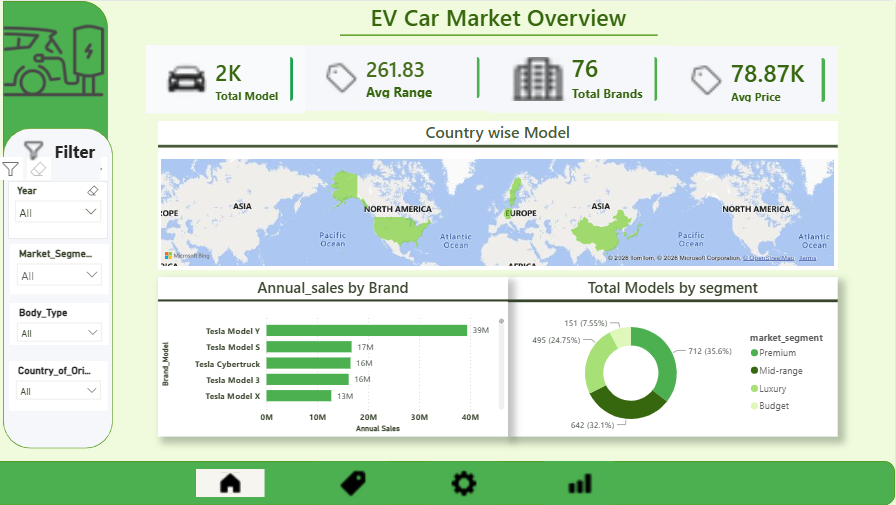

The dashboard page shown, as its layout file describes it:
{"tool":"powerbi","page":{"name":"Market Overview ","canvas":[1280,720],"ordinal":0},"visuals":[{"type":"shape","box":[0,656.6,1280.2,63.4],"z":0},{"type":"shape","box":[5.8,0,149.8,604.8],"z":1000},{"type":"shape","box":[5.8,181.4,157,457.9],"z":2000},{"type":"slicer","fields":{"Values":["ev_market_2026 (1).market_segment"]},"box":[15.8,347,141.1,72],"z":3000},{"type":"slicer","fields":{"Values":["ev_market_2026 (1).body_type"]},"box":[15.8,432,141.1,60.5],"z":4000},{"type":"slicer","fields":{"Values":["ev_market_2026 (1).year"]},"box":[13,257.8,142.6,82.1],"z":5000},{"type":"cardVisual","fields":{"Data":["ev_market_2026 (1).avg Range"]},"box":[435.8,63.2,268.3,94],"z":6000},{"type":"donutChart","title":"Total Models by segment","fields":{"Y":["ev_market_2026 (1).Total Model"],"Category":["ev_market_2026 (1).market_segment"]},"box":[727.2,394.6,470.9,227.5],"z":7000},{"type":"clusteredBarChart","title":" Annual_sales by Brand","fields":{"Category":["ev_market_2026 (1).Brand_Model"],"Y":["Sum(ev_market_2026 (1).annual_sales_units)"]},"box":[227.5,394.6,499.7,227.5],"z":8000},{"type":"slicer","fields":{"Values":["ev_market_2026 (1).country_of_origin"]},"box":[14.4,514.1,141.1,70.6],"z":9000},{"type":"actionButton","box":[24.5,181.4,50.4,64.8],"z":10000},{"type":"textbox","title":"EV Car Market Overview","box":[435.8,0,555.4,63.2],"z":11000},{"type":"cardVisual","fields":{"Data":["ev_market_2026 (1).Total Brands"]},"box":[701.3,63.4,256.3,97.4],"z":12000},{"type":"cardVisual","fields":{"Data":["ev_market_2026 (1).Avg Price"]},"box":[957.6,64.8,241,97.4],"z":13000},{"type":"textbox","box":[74.9,193,70.6,64.8],"z":14000},{"type":"cardVisual","fields":{"Data":["ev_market_2026 (1).Total Model"]},"box":[210.2,63.4,227.1,97.7],"z":15000},{"type":"actionButton","box":[0,0,157,171.4],"z":16000},{"type":"actionButton","box":[280.8,668.2,97.9,40.3],"z":17000},{"type":"actionButton","box":[455,656.6,99.4,63.4],"z":18000},{"type":"actionButton","box":[780.5,656.6,99.4,63.4],"z":19000},{"type":"actionButton","box":[614.9,656.6,99.4,63.4],"z":20000},{"type":"filledMap","title":"Country wise Model","fields":{"Category":["ev_market_2026 (1).country_of_origin"],"Y":["Min(ev_market_2026 (1).Brand_Model)"]},"box":[227.5,171.4,970.6,211.7],"z":21000},{"type":"shape","box":[486.7,21.6,453.6,54.7],"z":21001}]}

Visuals, with their boxes in screenshot pixels (x1, y1, x2, y2), scaled from the page's 1280x720 canvas onto the 896x505 screenshot:
shape: [0, 461, 895, 504]
shape: [4, 0, 109, 424]
shape: [4, 127, 114, 448]
slicer - ev_market_2026 (1).market_segment: [11, 243, 110, 294]
slicer - ev_market_2026 (1).body_type: [11, 303, 110, 345]
slicer - ev_market_2026 (1).year: [9, 181, 109, 238]
cardVisual - ev_market_2026 (1).avg Range: [305, 44, 493, 110]
"Total Models by segment" donutChart: [509, 277, 839, 436]
" Annual_sales by Brand" clusteredBarChart: [159, 277, 509, 436]
slicer - ev_market_2026 (1).country_of_origin: [10, 361, 109, 410]
actionButton: [17, 127, 52, 173]
"EV Car Market Overview" textbox: [305, 0, 694, 44]
cardVisual - ev_market_2026 (1).Total Brands: [491, 44, 670, 113]
cardVisual - ev_market_2026 (1).Avg Price: [670, 45, 839, 114]
textbox: [52, 135, 102, 181]
cardVisual - ev_market_2026 (1).Total Model: [147, 44, 306, 113]
actionButton: [0, 0, 110, 120]
actionButton: [197, 469, 265, 497]
actionButton: [318, 461, 388, 504]
actionButton: [546, 461, 616, 504]
actionButton: [430, 461, 500, 504]
"Country wise Model" filledMap: [159, 120, 839, 269]
shape: [341, 15, 658, 54]
